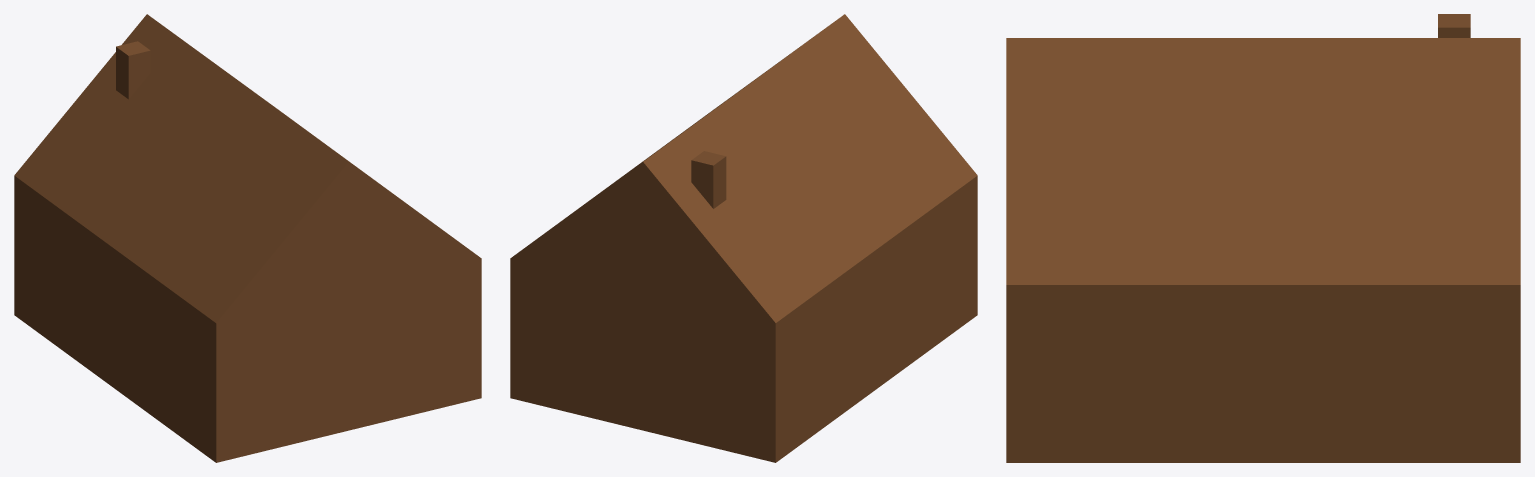
Rendered from house.obj.
3 views of the same model, side by side, from view 1: azimuth 30°, elevation 25°; view 2: azimuth 150°, elevation 25°; view 3: azimuth 270°, elevation 25° (orthographic). The views are drawn at different scales.
Parts seen in each view (by area): view 1: Cube; view 2: Cube; view 3: Cube.
Boxes of the visible parts, x1=… form: Cube: x1=14, y1=14, x2=481, y2=462; Cube: x1=510, y1=14, x2=977, y2=462; Cube: x1=1006, y1=14, x2=1520, y2=462.
Size of the model in its own units: 10.34 by 10.01 by 13.63.
1 material, 1 textured.
